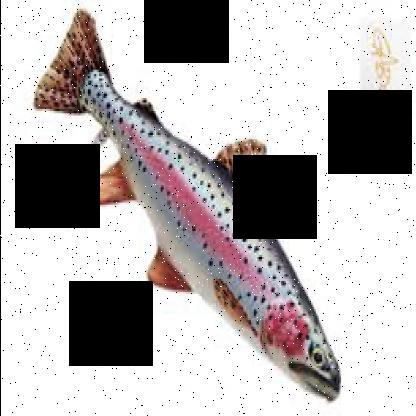fish: (33, 9, 347, 401)
